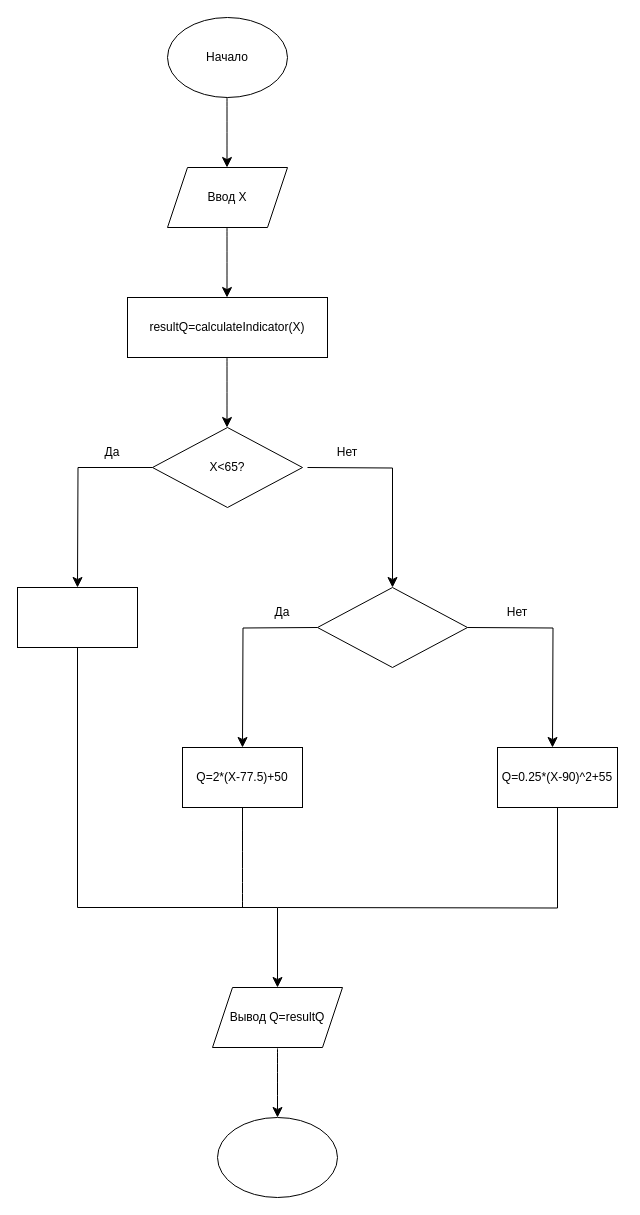
The diagram is 640 pixels wide and 1215 high, and some of its shapes have lost their labels. The shapes that lost their labels are listed below. From the top down, each one's centre as x and y in pixels, then its label:
point 77,617: Q=6*sqrt(X-65)+5
point 392,627: X<=90?
point 277,1157: Конец
